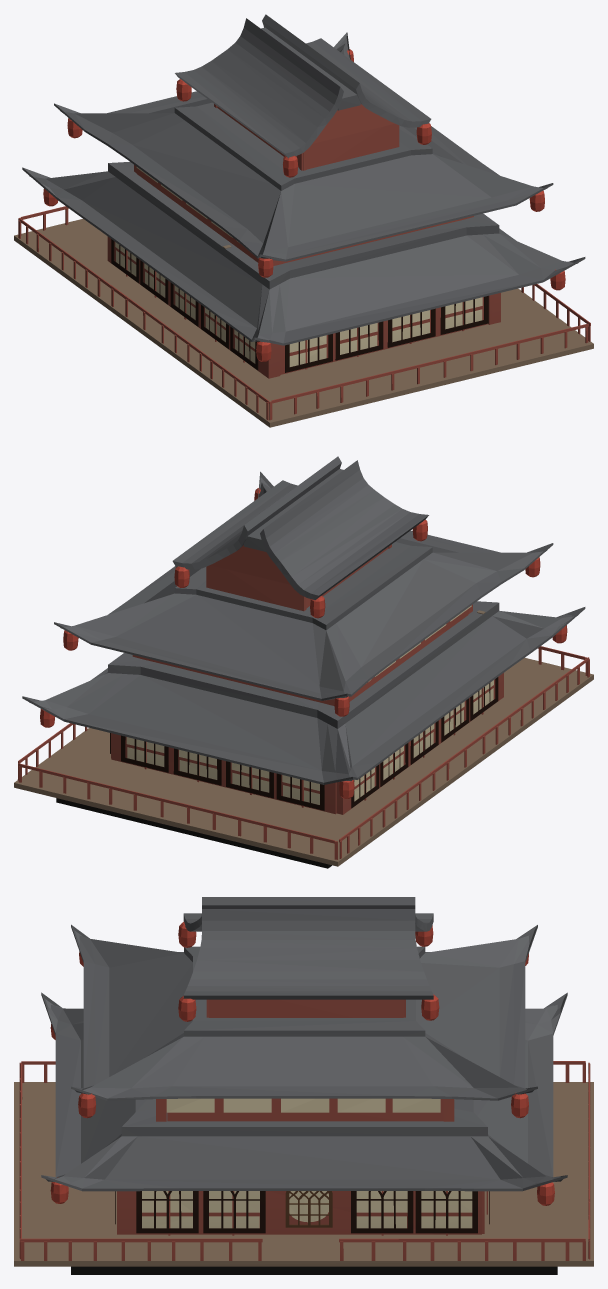
File: cn_tower.glb
3 renders of one model, top to bottom at view 1: azimuth 30°, elevation 25°; view 2: azimuth 150°, elevation 25°; view 3: azimuth 270°, elevation 25°, orthographic. The views are drawn at different scales.
Visible parts, largest first — view 1: cn_tower; view 2: cn_tower; view 3: cn_tower.
Boxes of the visible parts, left/top/right/bottom form: cn_tower: left=14, top=14, right=593, bottom=427; cn_tower: left=14, top=456, right=593, bottom=868; cn_tower: left=14, top=897, right=593, bottom=1274.
Bounding box in the file's own units: 9.47 × 7.2 × 12.71.
